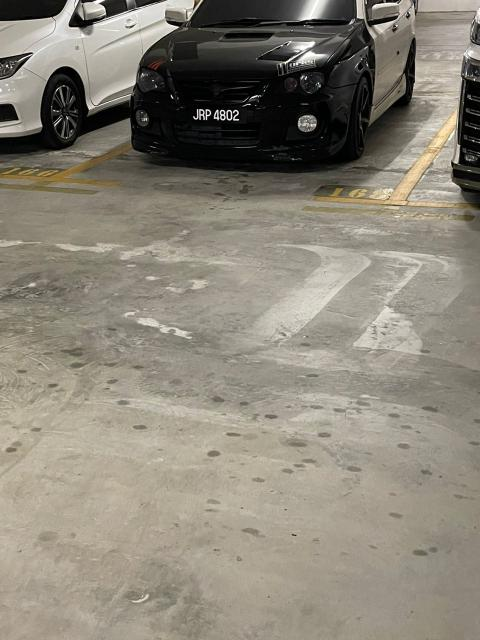License_Plate: (181, 105, 253, 127)
car: (122, 2, 383, 145)
